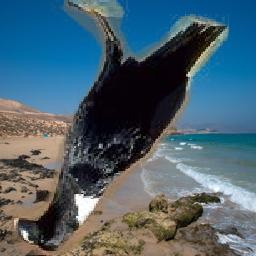Crow: (13, 0, 230, 255)
